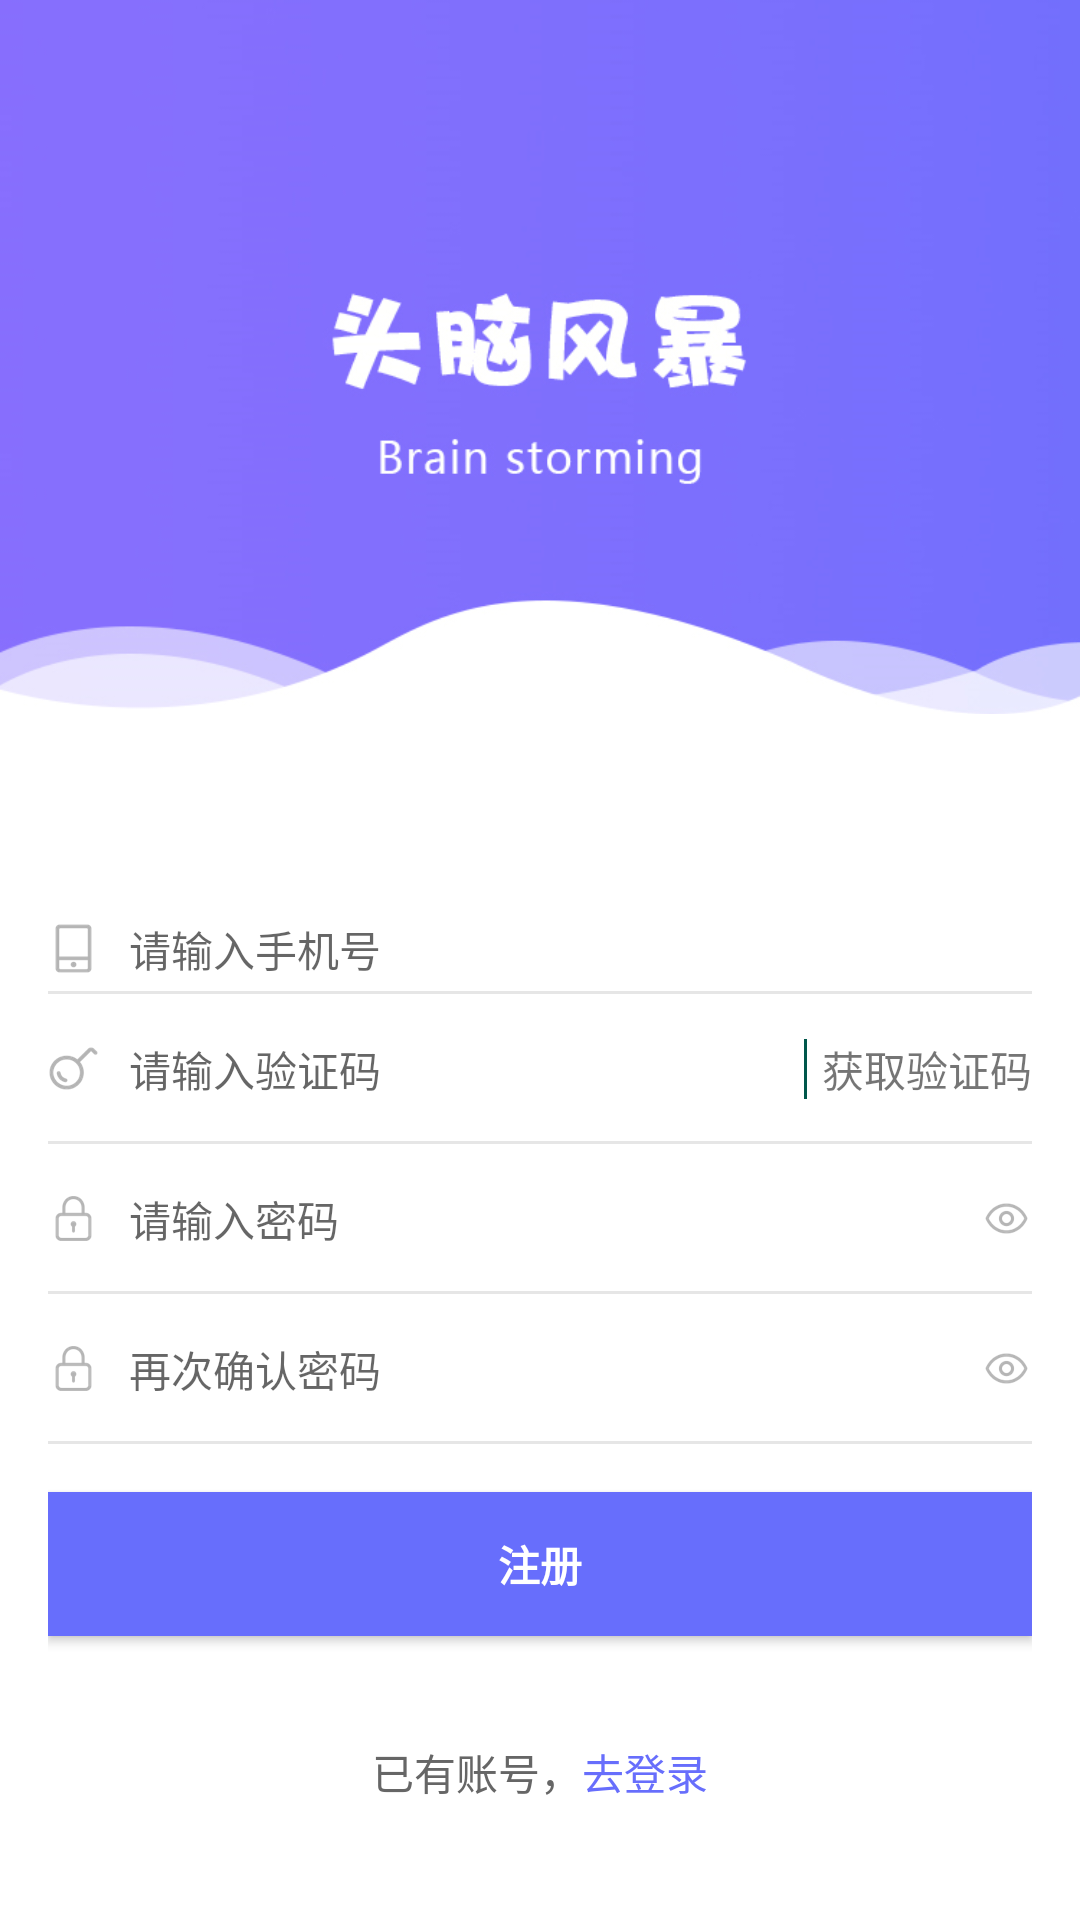

Where icons sit on this 1080px×1920px app screen, as box=[x1, y1, x2, y2]:
password: box=[55, 1196, 92, 1241], box=[55, 1346, 92, 1391]
phone: box=[55, 924, 92, 973]
show: box=[986, 1203, 1027, 1234], box=[986, 1353, 1027, 1384]
